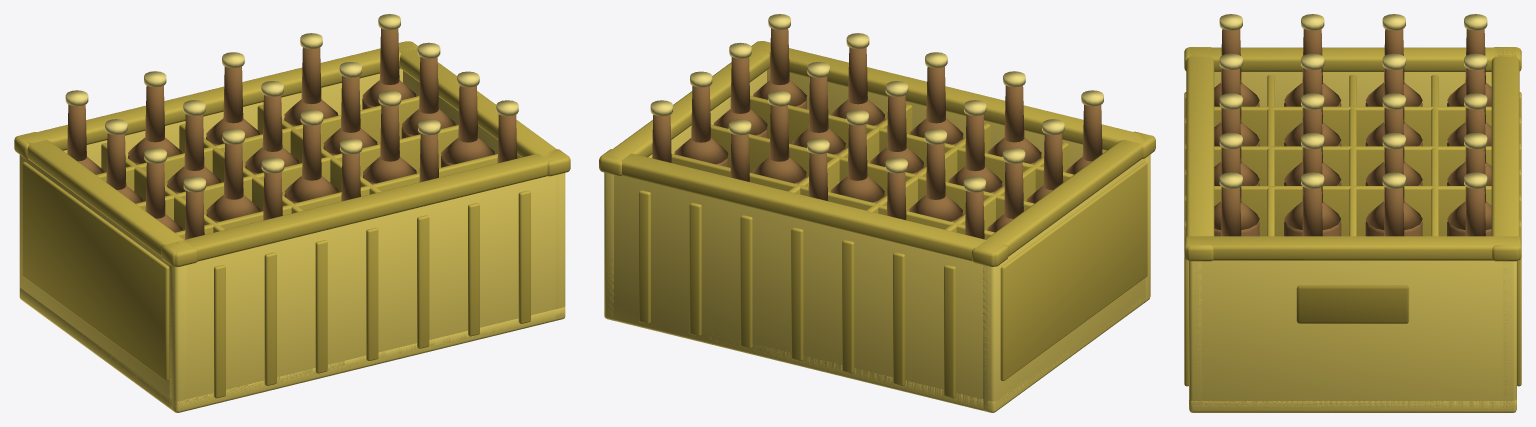
The model's file is bierkasten.glb.
3 renders of one model, left to right at view 1: azimuth 30°, elevation 25°; view 2: azimuth 150°, elevation 25°; view 3: azimuth 270°, elevation 25°, orthographic. The views are drawn at different scales.
Visible parts, largest first — view 1: Kasten, bottle_17, bottle_9, bottle_13, bottle_5, bottle_18, bottle_19, bottle_6, bottle_10, bottle_11, bottle_14, bottle_15 (+9 smaller); view 2: Kasten, bottle_18, bottle_10, bottle_14, bottle_6, bottle_17, bottle_16, bottle_4, bottle_9, bottle_5, bottle_13, bottle_12 (+9 smaller); view 3: Kasten, bottle_13, bottle_14, bottle_12, bottle_15, bottle_6, bottle_5, bottle_2, bottle_1, bottle_10, bottle_9, bottle_4 (+9 smaller).
Boxes of the visible parts, bbox=[...] form: Kasten: bbox=[14, 41, 570, 412]; bottle_17: bbox=[441, 71, 494, 167]; bottle_9: bbox=[284, 109, 338, 203]; bottle_13: bbox=[363, 90, 416, 184]; bottle_5: bbox=[206, 128, 260, 222]; bottle_18: bbox=[401, 42, 455, 138]; bottle_19: bbox=[362, 14, 416, 109]; bottle_6: bbox=[167, 100, 221, 193]; bottle_10: bbox=[245, 81, 299, 174]; bottle_11: bbox=[206, 52, 259, 145]; bottle_14: bbox=[323, 62, 377, 155]; bottle_15: bbox=[284, 33, 338, 126]; Kasten: bbox=[599, 41, 1155, 412]; bottle_18: bbox=[674, 71, 728, 167]; bottle_10: bbox=[831, 109, 884, 203]; bottle_14: bbox=[752, 90, 806, 184]; bottle_6: bbox=[909, 128, 962, 222]; bottle_17: bbox=[713, 42, 767, 138]; bottle_16: bbox=[753, 14, 806, 109]; bottle_4: bbox=[987, 71, 1041, 164]; bottle_9: bbox=[870, 81, 923, 174]; bottle_5: bbox=[948, 100, 1002, 193]; bottle_13: bbox=[792, 62, 845, 155]; bottle_12: bbox=[831, 33, 885, 126]; Kasten: bbox=[1184, 47, 1521, 412]; bottle_13: bbox=[1284, 132, 1341, 236]; bottle_14: bbox=[1365, 132, 1422, 236]; bottle_12: bbox=[1214, 132, 1259, 236]; bottle_15: bbox=[1447, 132, 1491, 236]; bottle_6: bbox=[1365, 53, 1422, 146]; bottle_5: bbox=[1284, 53, 1341, 146]; bottle_2: bbox=[1365, 14, 1422, 106]; bottle_1: bbox=[1284, 14, 1341, 106]; bottle_10: bbox=[1365, 93, 1422, 185]; bottle_9: bbox=[1284, 93, 1341, 185]; bottle_4: bbox=[1214, 53, 1259, 146].
Bounding box in the file's own units: 0.51 × 0.256 × 0.36.
